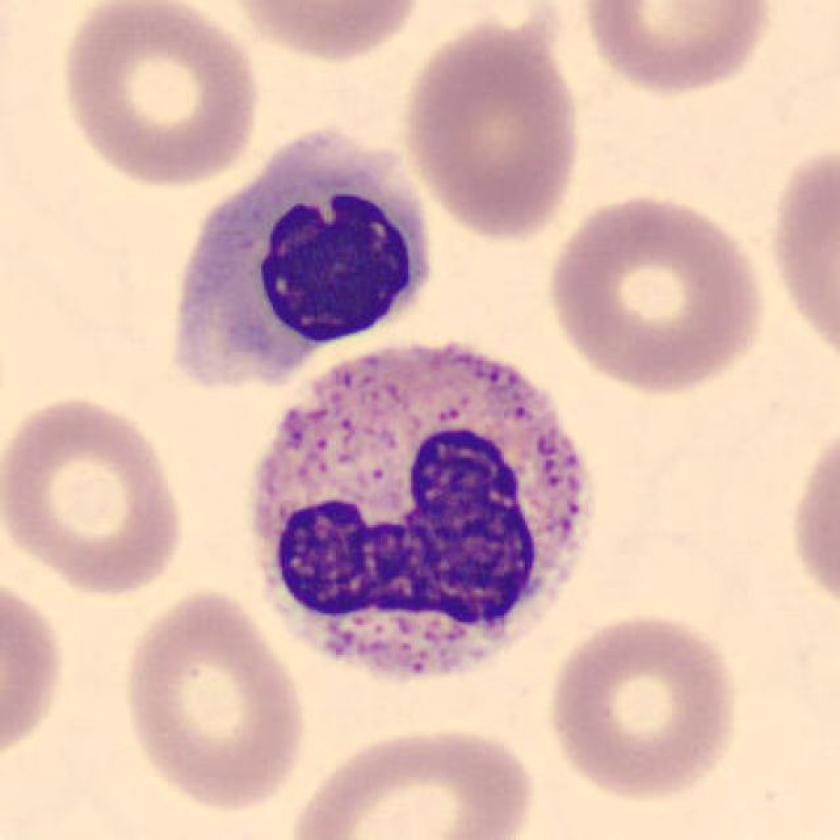neutrophil: (252, 342, 597, 685)
